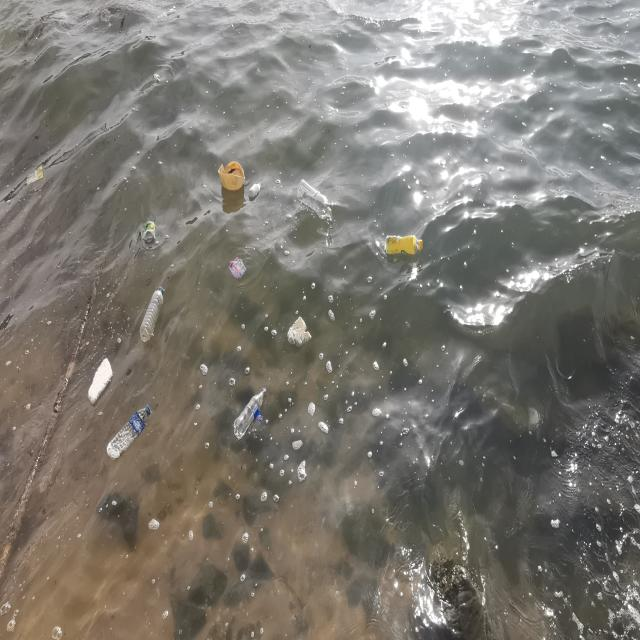can: (143, 220, 157, 247)
foam: (89, 356, 112, 408), (287, 316, 312, 348)
plastic: (107, 407, 151, 459), (233, 387, 267, 438), (298, 180, 332, 221), (140, 285, 164, 343), (384, 234, 424, 256), (250, 181, 260, 200)
plastic bottle: (219, 159, 246, 191), (26, 166, 43, 185)
unknow: (228, 256, 246, 278)
